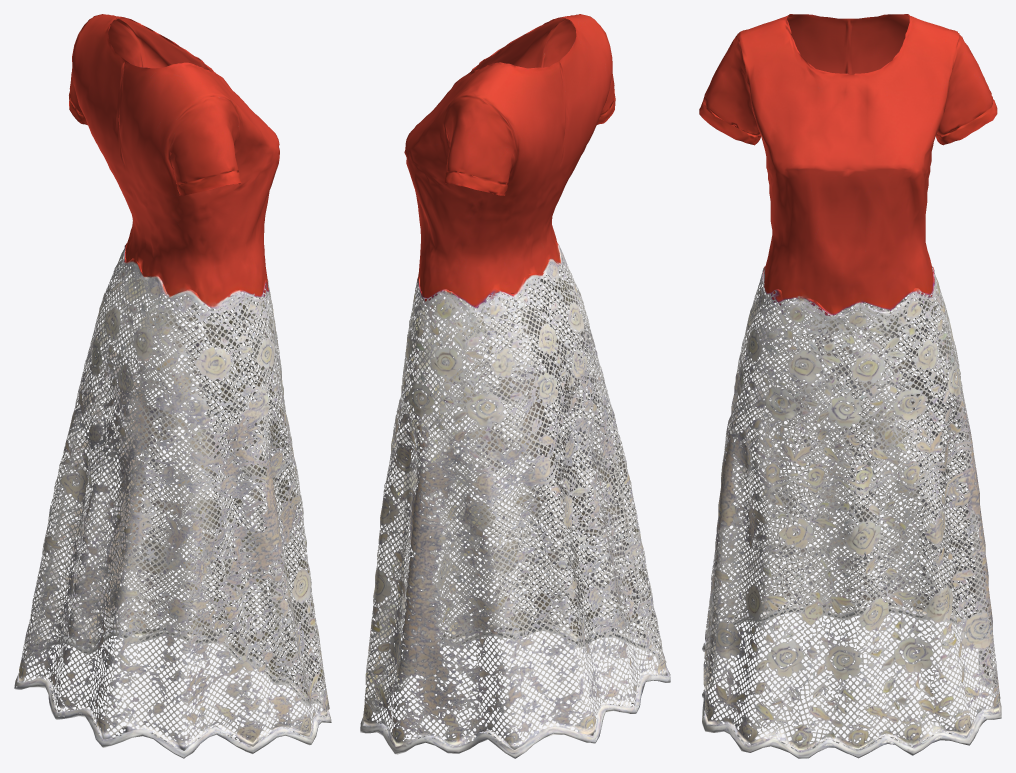
Rendered from lace_skirt_cutout.glb.
The picture shows the model from 3 angles, left to right: view 1: azimuth 30°, elevation 25°; view 2: azimuth 150°, elevation 25°; view 3: azimuth 270°, elevation 25°; orthographic projection.
Visible parts, largest first — view 1: target_node0; view 2: target_node0; view 3: target_node0.
Boxes of the visible parts, x1,y1,x2,y2 form: target_node0: (14, 14, 331, 758); target_node0: (360, 14, 670, 758); target_node0: (699, 14, 1001, 758).
Bounding box in the file's own units: 0.3574 × 0.998 × 0.4043.
Materials: 1 (1 with a texture image).
